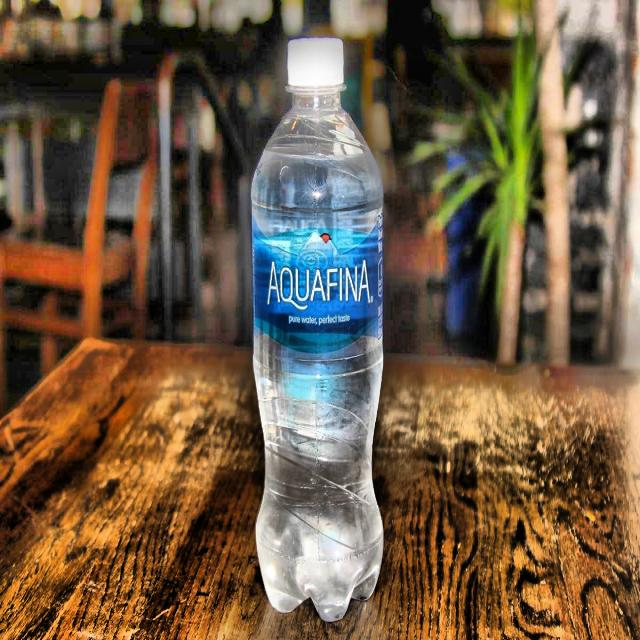Bottles: (236, 20, 409, 638)
